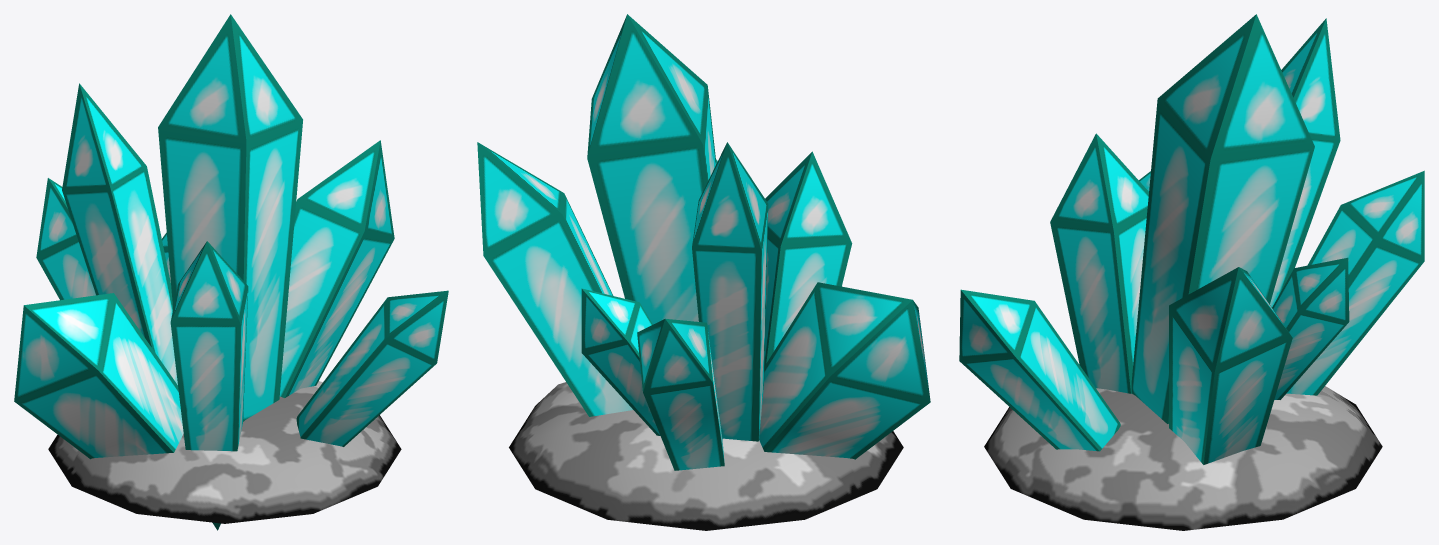
File: crystalBigMAPPED.FBX
3 views of the same model, side by side, from view 1: azimuth 30°, elevation 25°; view 2: azimuth 150°, elevation 25°; view 3: azimuth 270°, elevation 25° (orthographic). The views are drawn at different scales.
Parts seen in each view (by area): view 1: Box001; view 2: Box001; view 3: Box001.
Boxes of the visible parts, x1,y1,x2,y2 form: Box001: (14, 14, 448, 530); Box001: (477, 14, 930, 530); Box001: (959, 14, 1424, 530).
Bounding box in the file's own units: 166 × 189 × 152.
